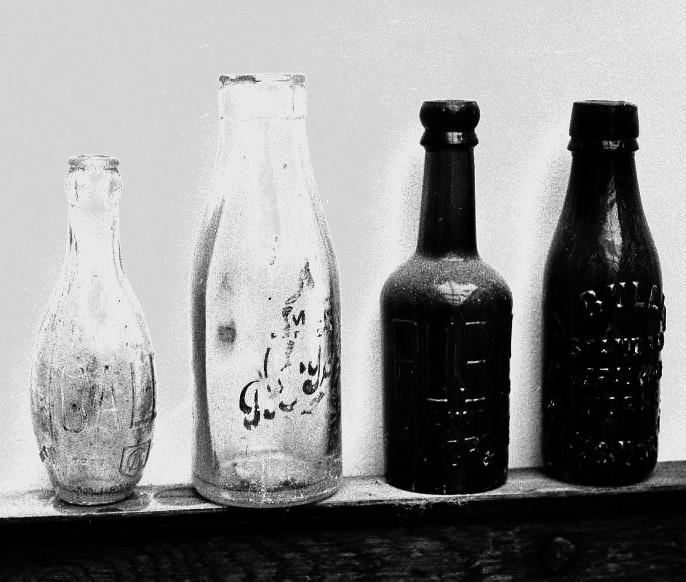bottle: (190, 73, 344, 509), (380, 99, 514, 495), (541, 99, 667, 487), (30, 154, 157, 507)
